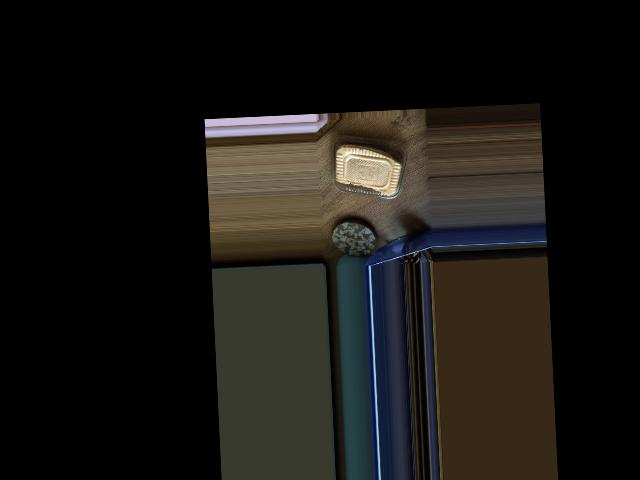cheese: (319, 115, 402, 206)
